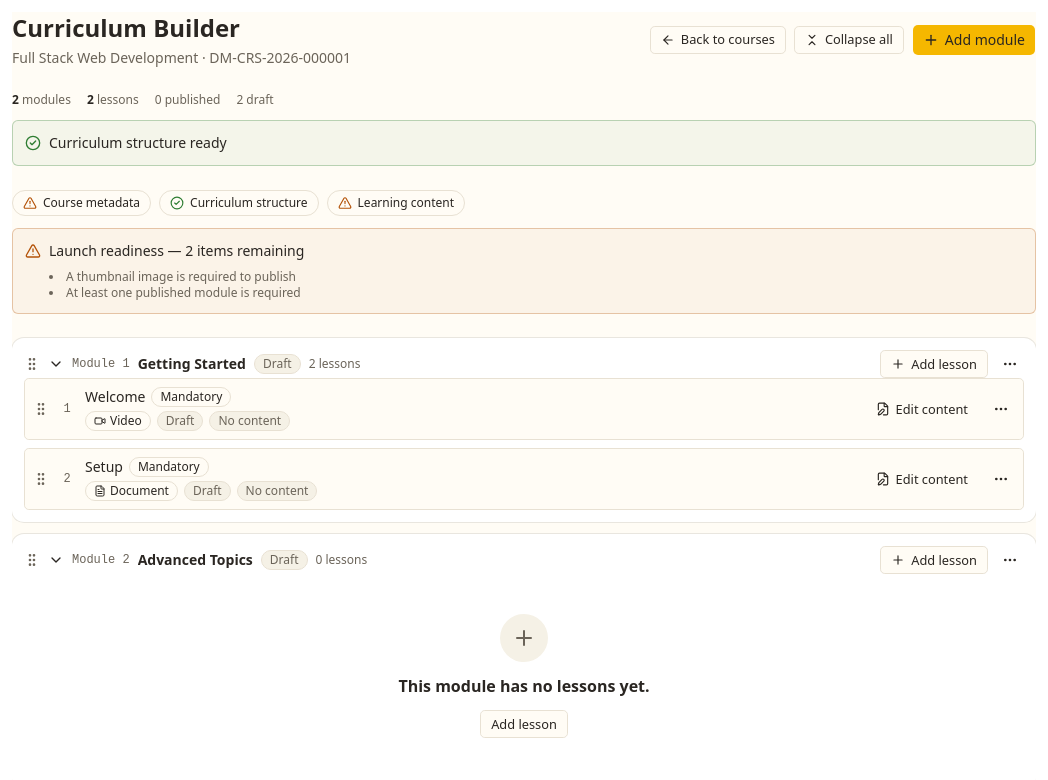
CourseCurriculumPage › archives then restores a module
The width and height of the screenshot is (1048, 780).
Expected: the text "Getting Started" is shown, 138,354 -> 246,374
Click the button named "actions for module getting started": (1010, 364) 996,350 -> 1024,378
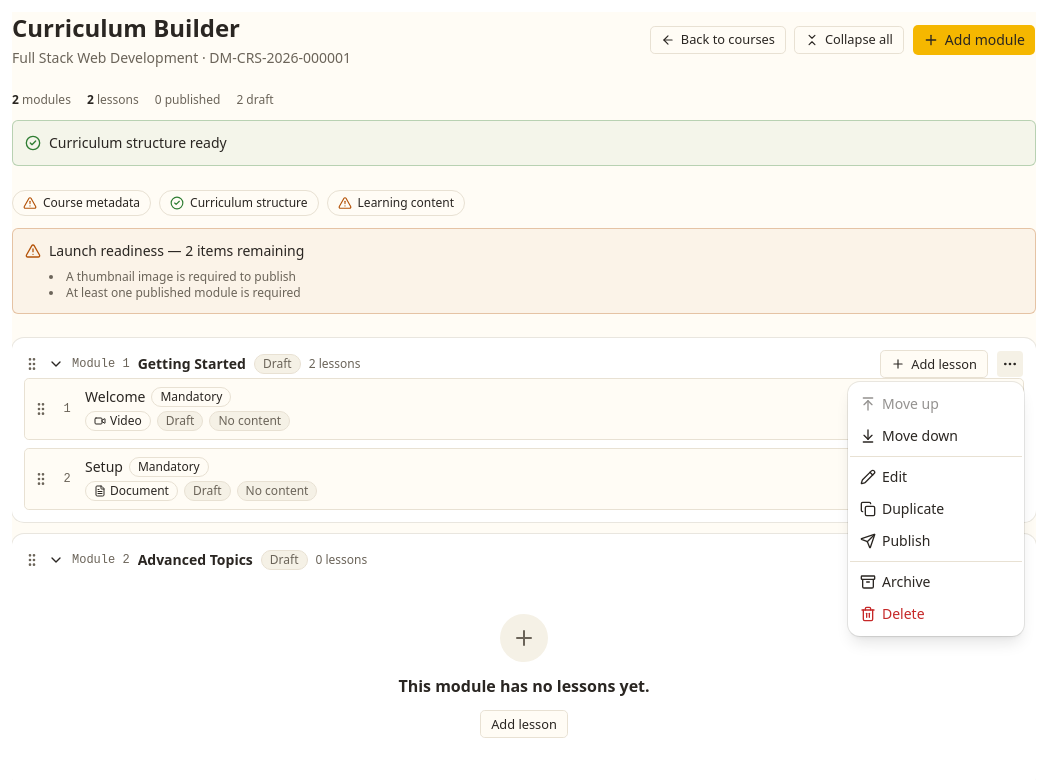
Click the menu item "Archive": (895, 582) 860,572 -> 930,591
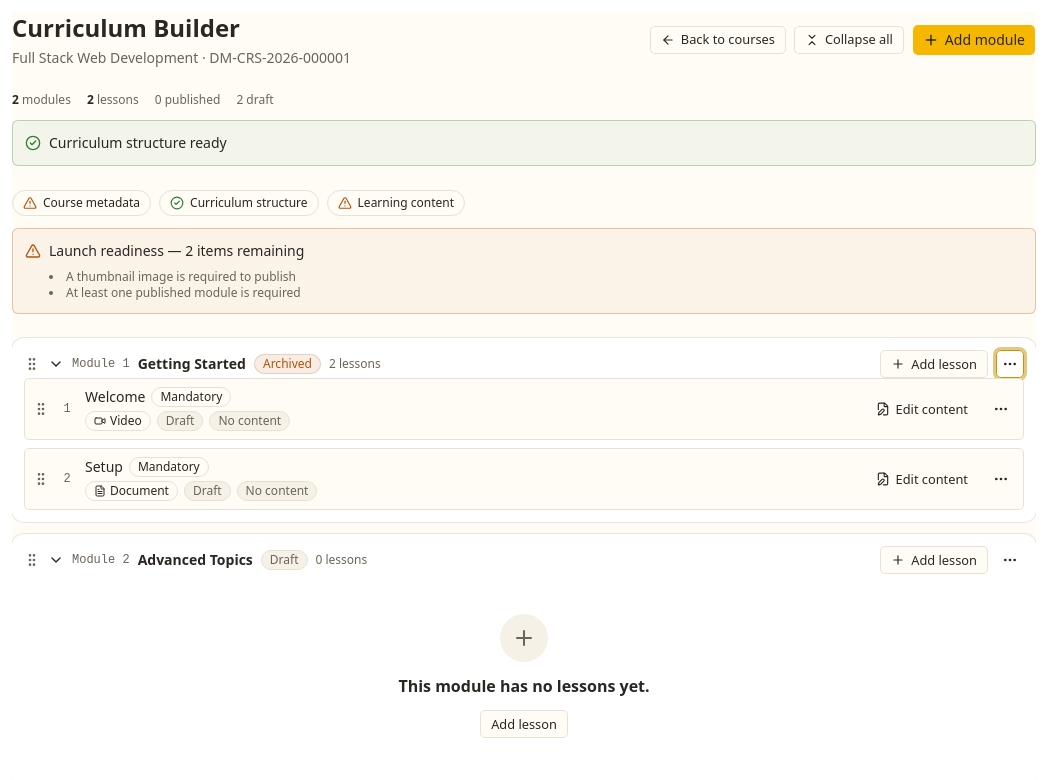
Expected: the text "Archived" is shown, 254,354 -> 321,374
Click the button named "actions for module getting started": (1010, 364) 996,350 -> 1024,378
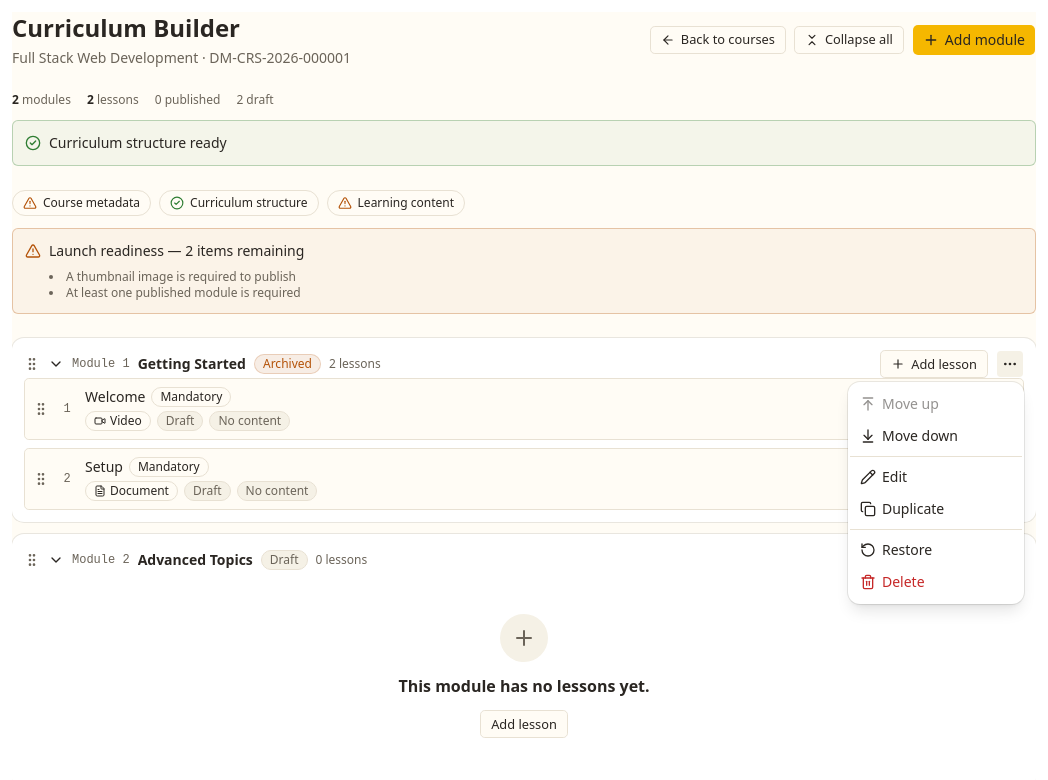
Click the menu item "Restore": (896, 550) 860,540 -> 932,559
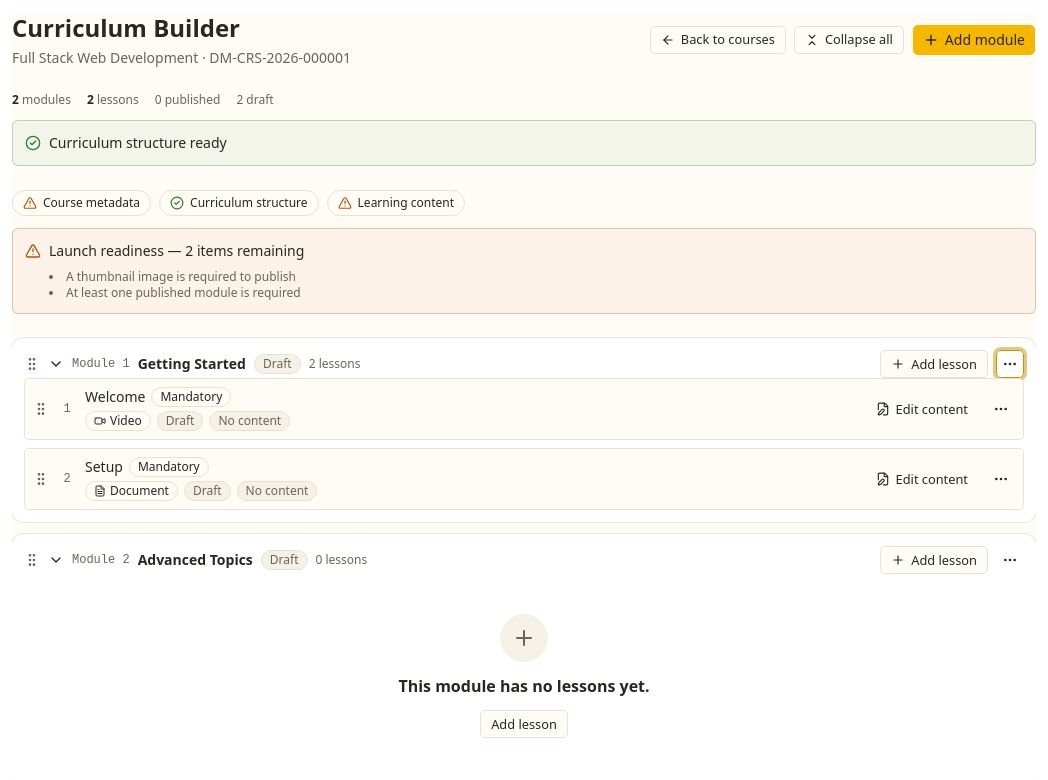
Expected: the 1st icon "Draft" is shown, 254,354 -> 301,374
